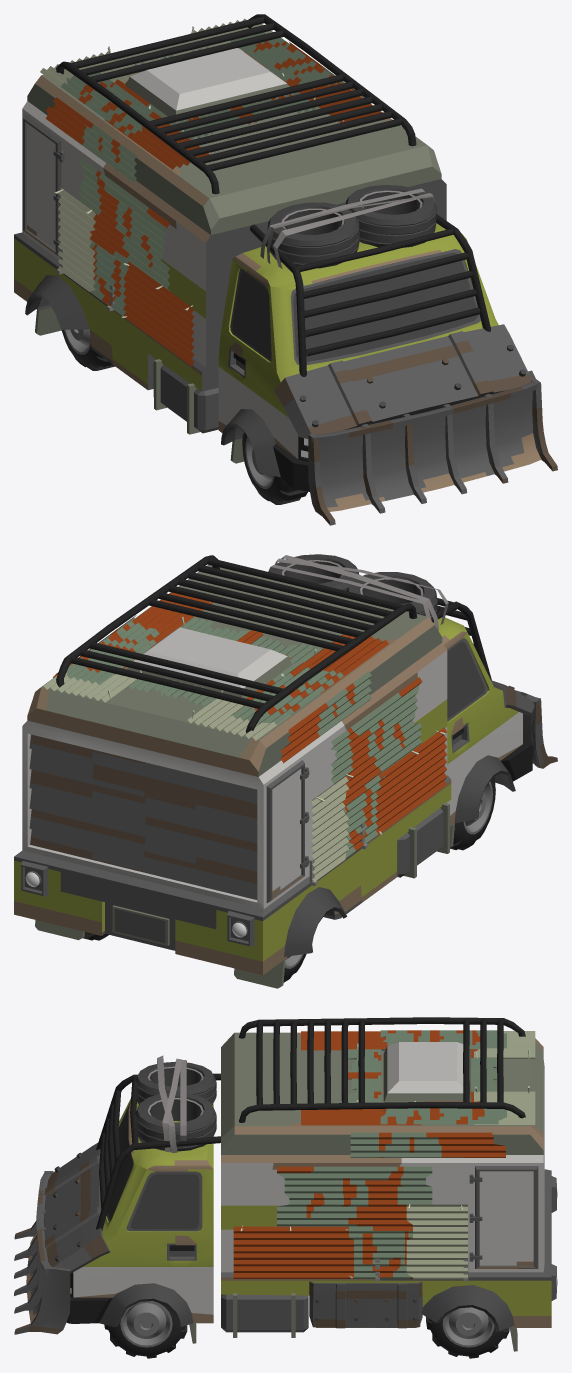
Rendered from Vehicle_Truck_Armored.glb.
3 views of the same model, one above another, from view 1: azimuth 30°, elevation 25°; view 2: azimuth 150°, elevation 25°; view 3: azimuth 270°, elevation 25° (orthographic). The views are drawn at different scales.
Visible parts, largest first — view 1: Truck_Armored, FrontWheel_R, BackWheels; view 2: Truck_Armored, FrontWheel_R; view 3: Truck_Armored, FrontWheel_L, BackWheels.
Part boxes in pixels (left/top/right/bottom): Truck_Armored: left=14, top=14, right=557, bottom=525; FrontWheel_R: left=242, top=432, right=307, bottom=504; BackWheels: left=61, top=329, right=114, bottom=370; Truck_Armored: left=14, top=554, right=557, bottom=988; FrontWheel_R: left=450, top=776, right=495, bottom=850; Truck_Armored: left=14, top=1017, right=557, bottom=1351; FrontWheel_L: left=104, top=1301, right=187, bottom=1358; BackWheels: left=426, top=1307, right=509, bottom=1358.
Bounding box in the file's own units: 2.98 × 2.9 × 5.59.
Materials: 3 (1 with a texture image).
